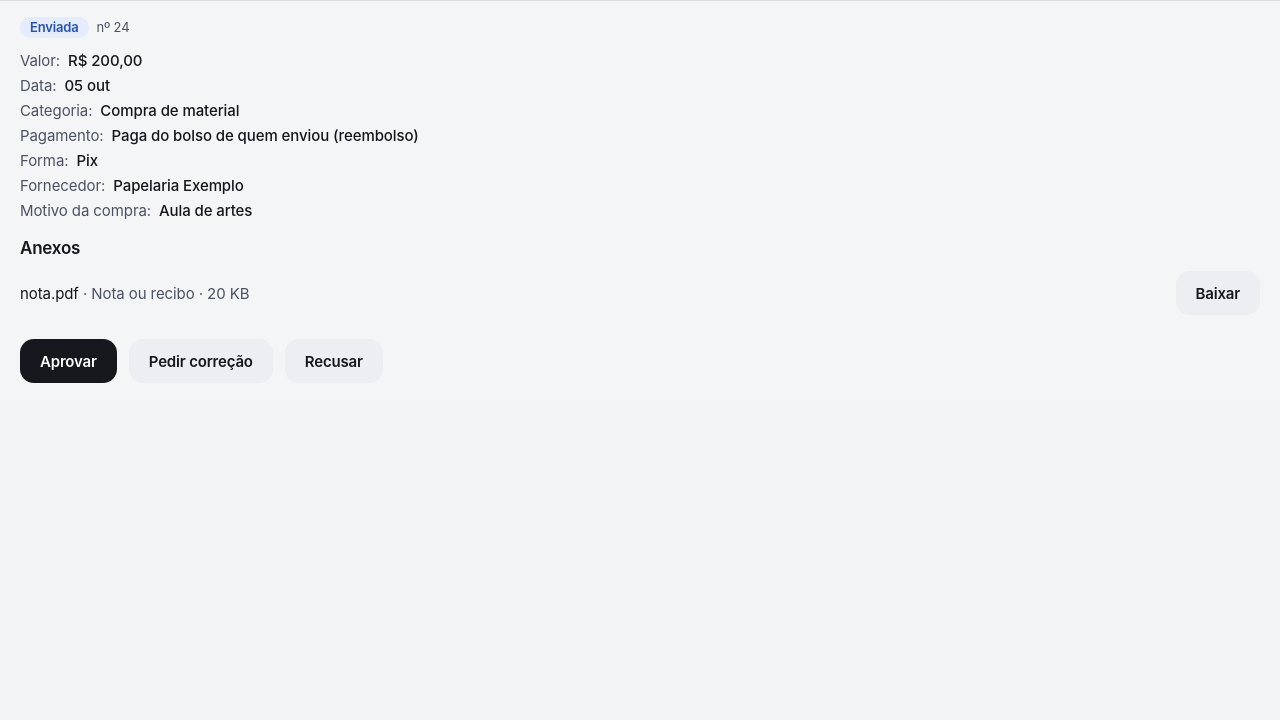
it: gestao (tesoureira) › aprova pelo valor pedido (sem corpo)
Click the button "Aprovar" at coordinates (68, 361), box [20,339,117,383]
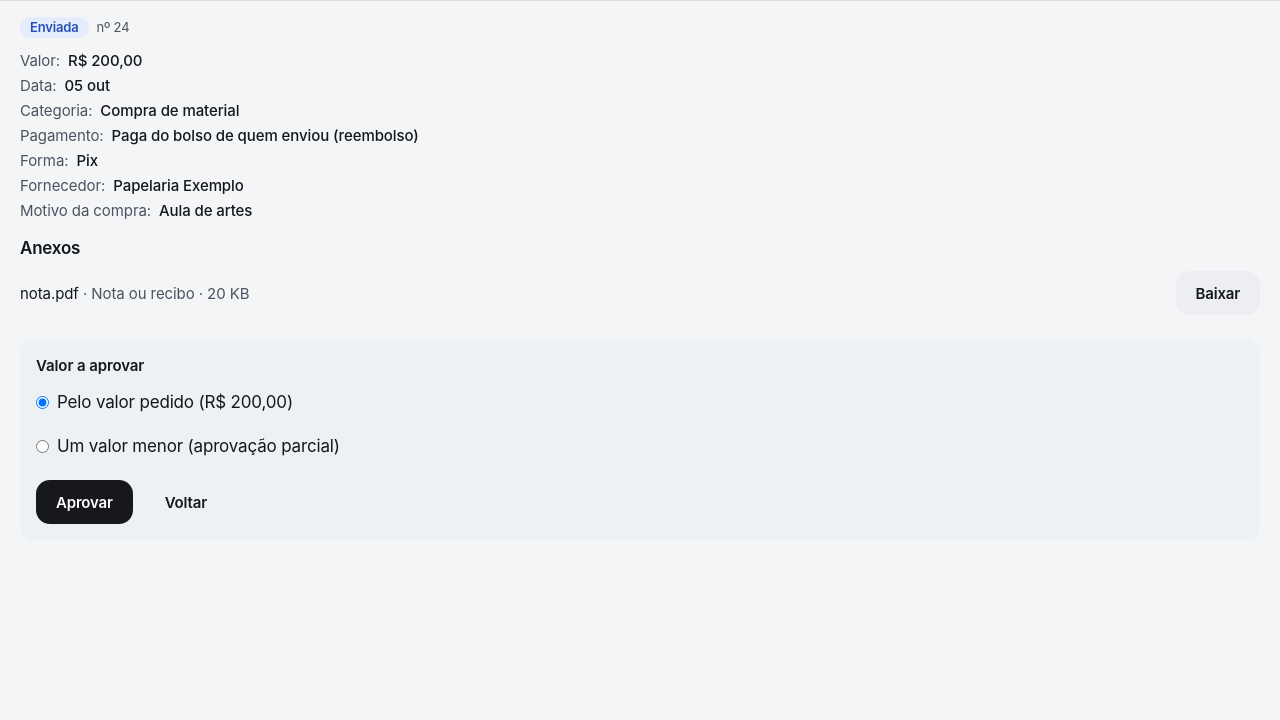
Click the button "Aprovar" at coordinates (84, 502), box [36,480,133,524]
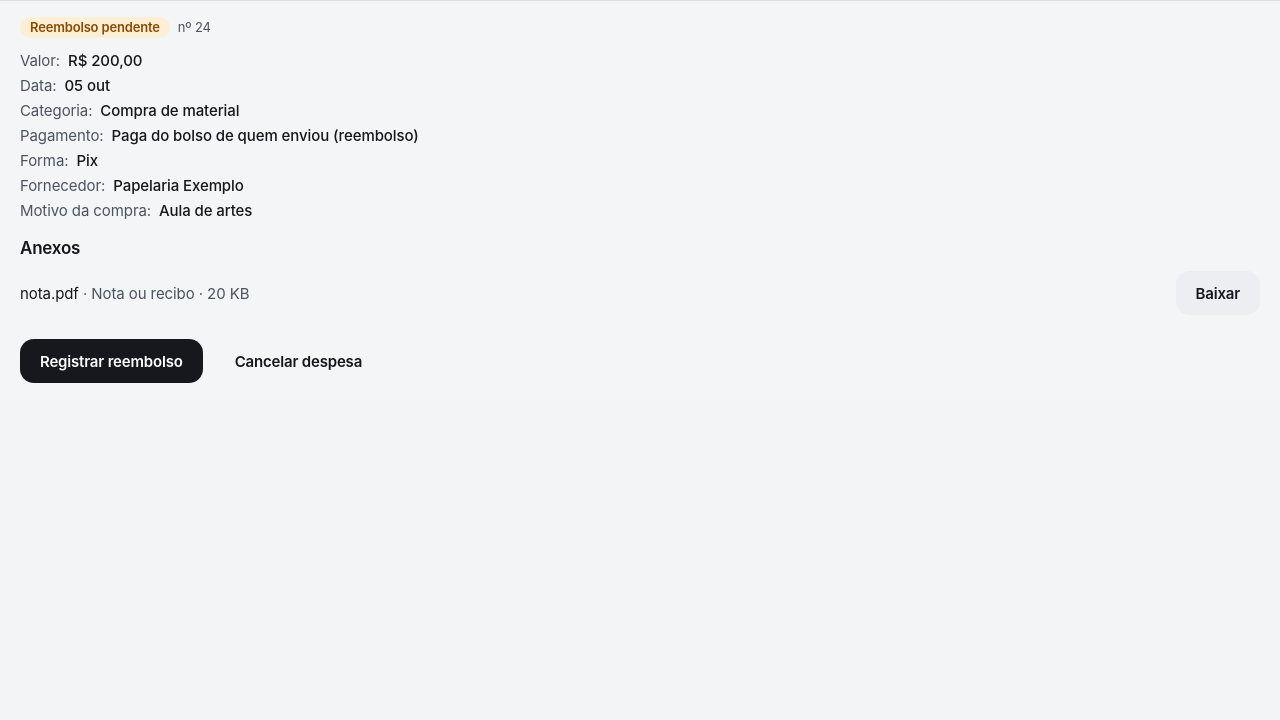
Expected: the text "Reembolso pendente" is shown, [20,17,170,38]
